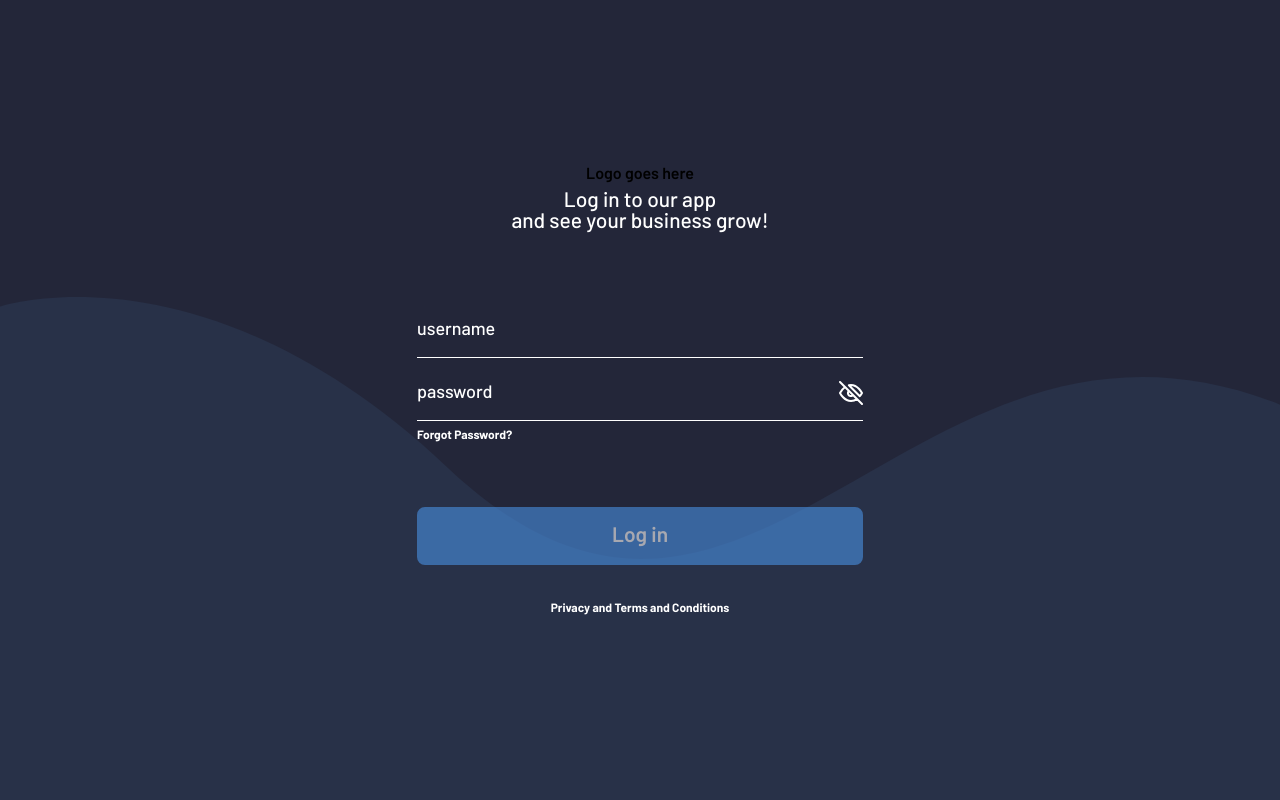
Test case: Login Screen › login button › should enable when username and password have values
Step 1. Type "test" into the field with placeholder "username" → (640, 330), box [417,302,863,356]
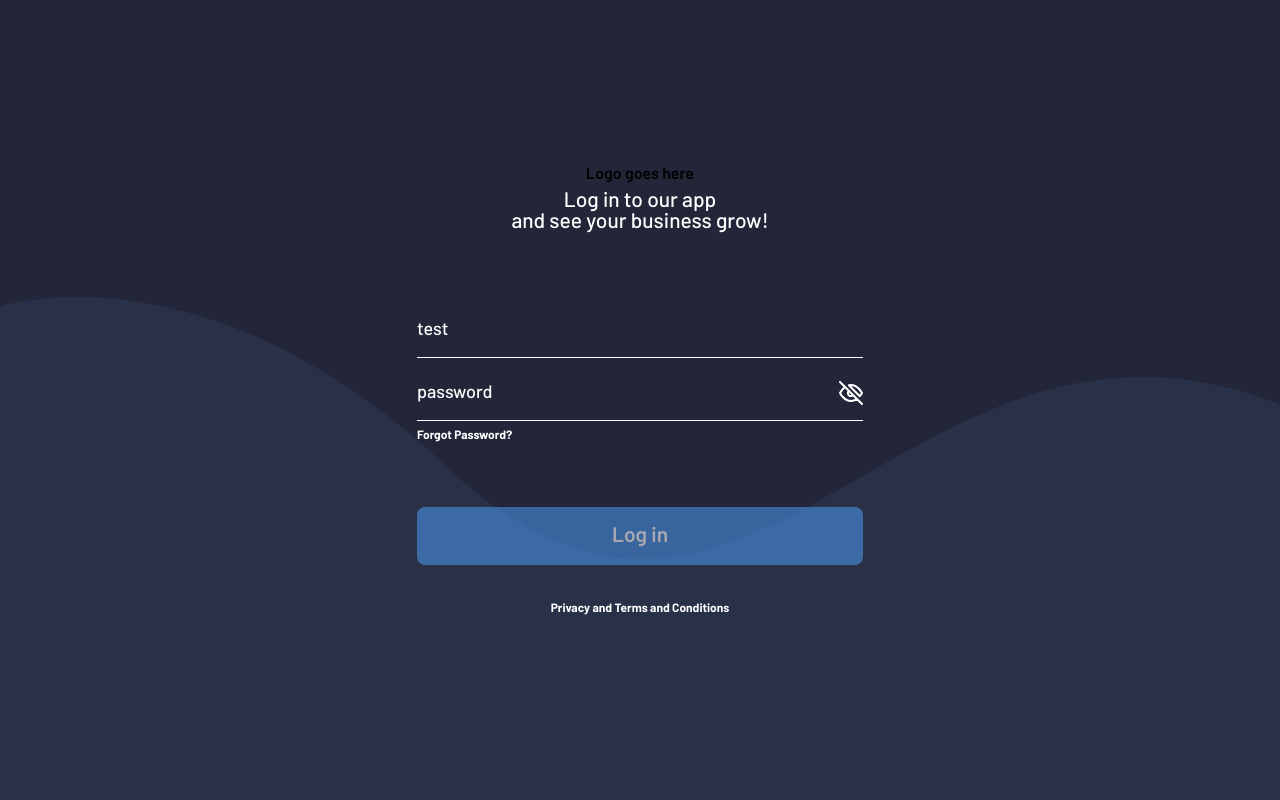
Step 2. Type "test" into the password field with placeholder "password" → (628, 392), box [417,366,839,420]
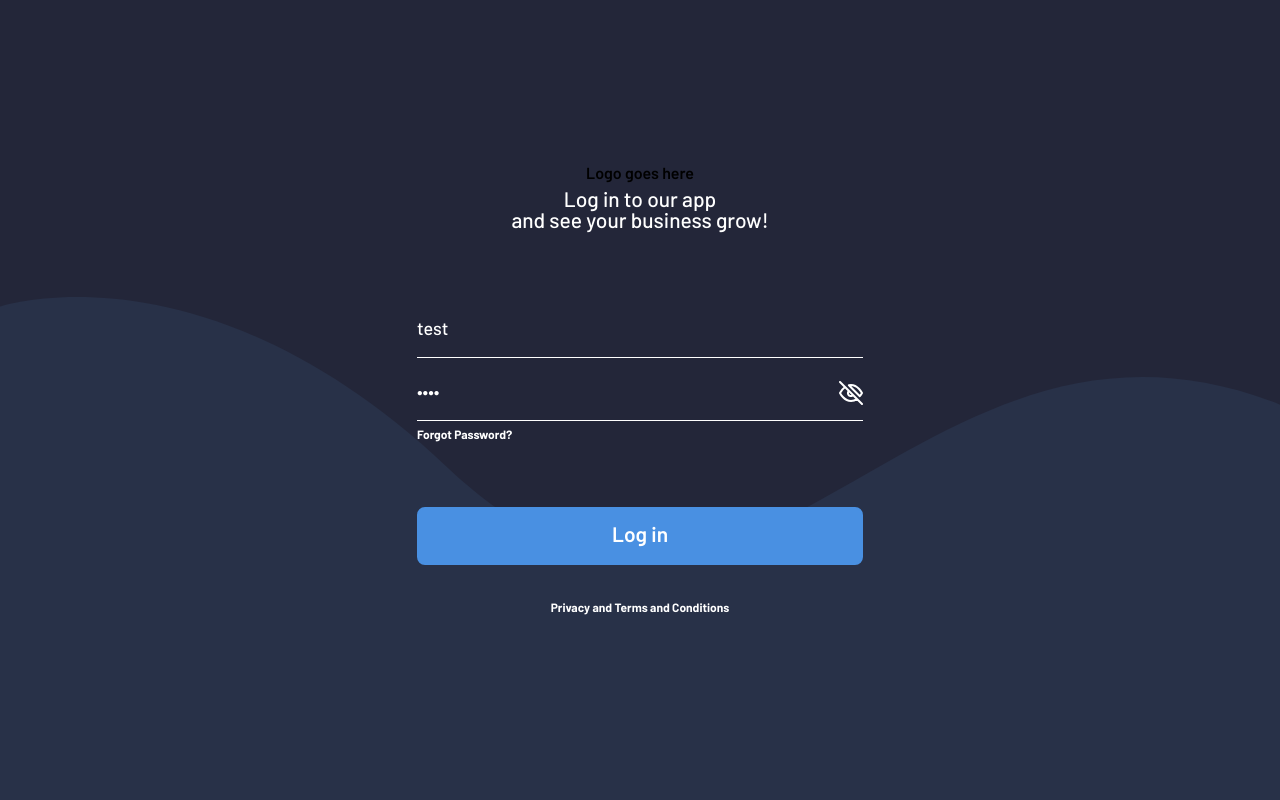
Check: the button "Log in" is enabled, box [417,506,863,564]
